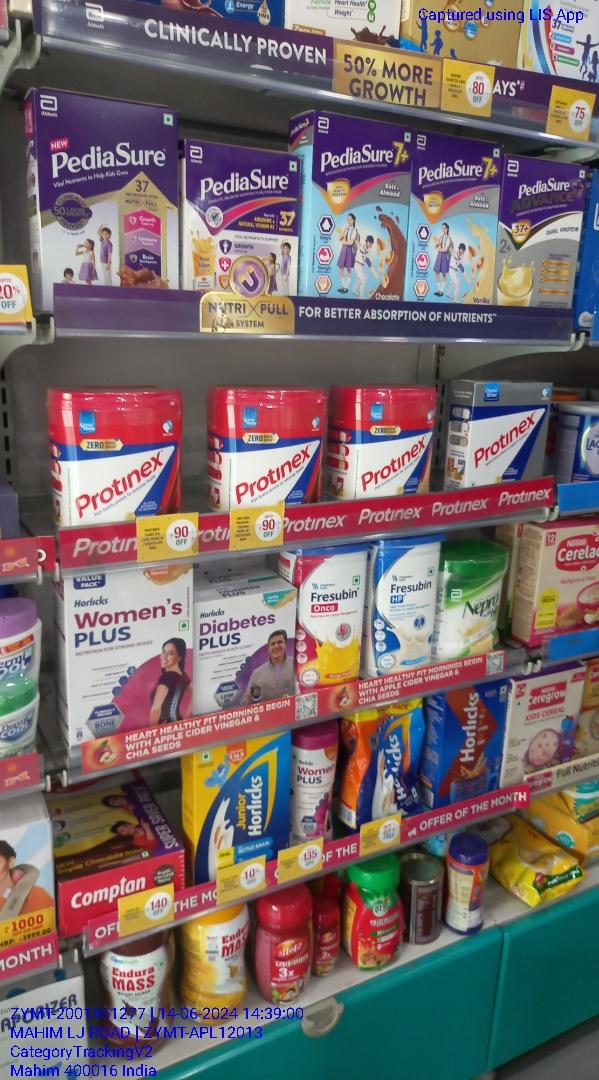HORLICK_CHOCOLATE_500_G_PACK: (441, 687, 502, 801)
PEDIASURE_7_PLUS_CHOCOLATE_400_G_PACK: (312, 116, 408, 299)
PEDIASURE_CHOCOLATE_500_G_PACK: (39, 89, 176, 286)
PROTINEX_CHOCOLATE_400_G_JAR: (56, 388, 182, 513), (214, 386, 328, 501)
PROTINEX_VANILLA_400_G_JAR: (340, 387, 438, 496)
